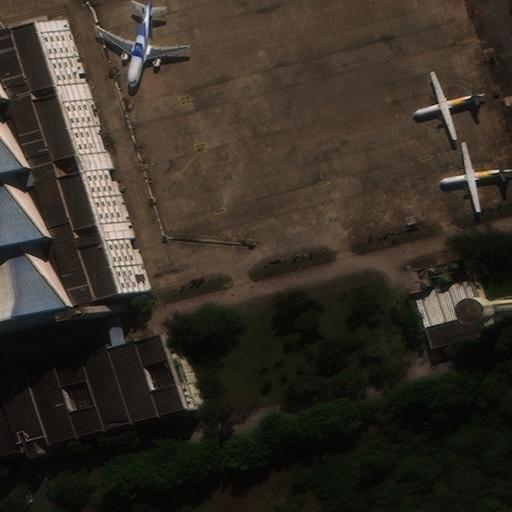Medium Civil Transport: (102, 3, 180, 82), (443, 149, 505, 207), (417, 77, 476, 135)
